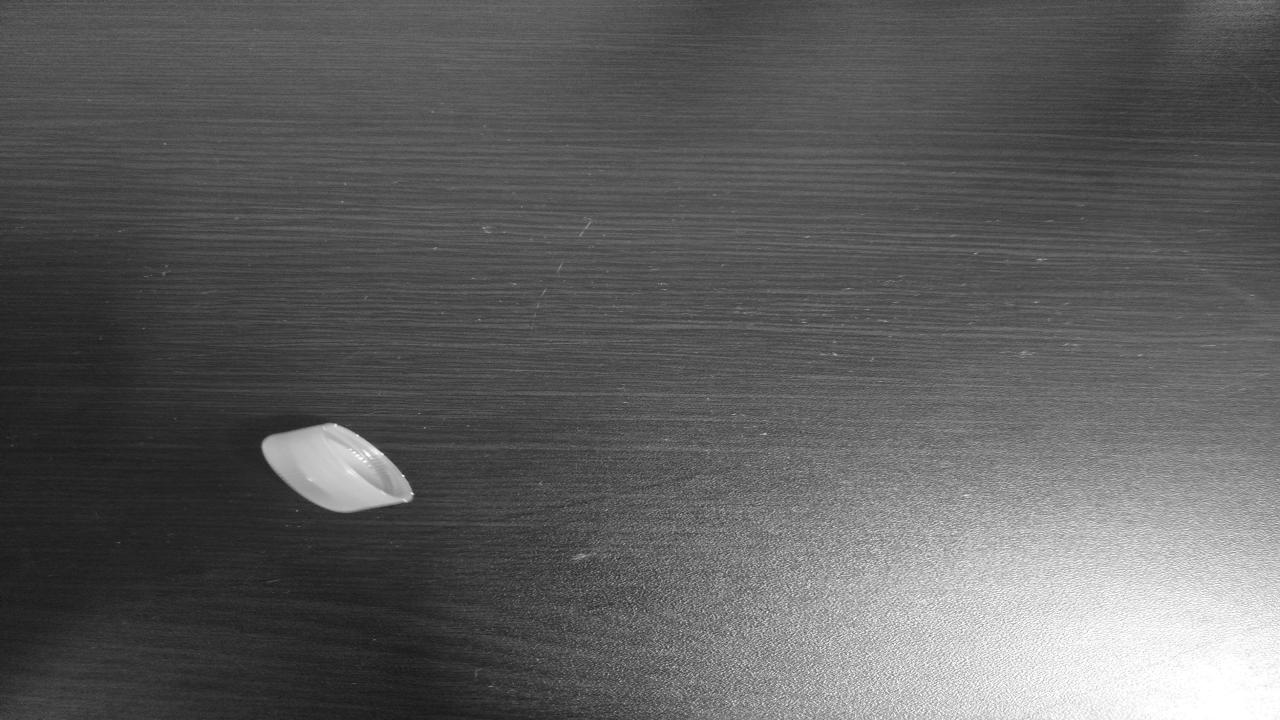bottle_cap: (269, 425, 414, 511)
